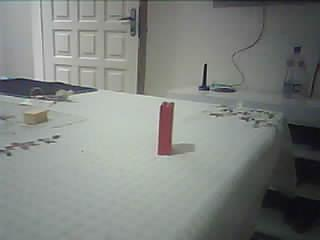lego: (157, 101, 175, 155), (23, 108, 50, 125)
